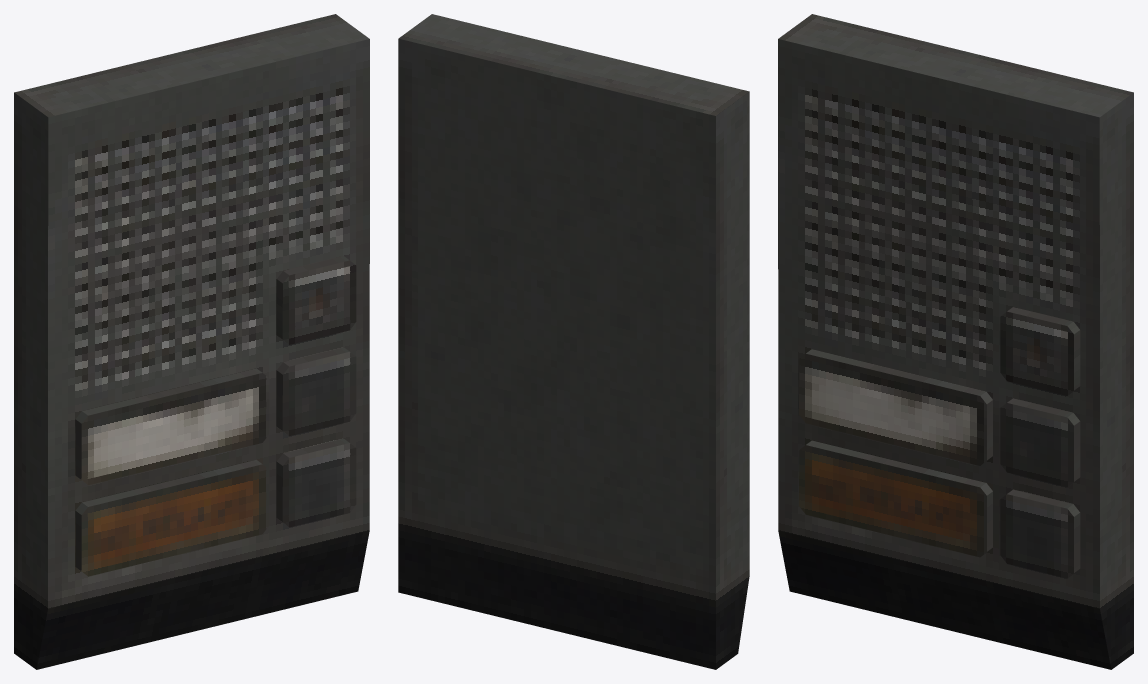
File: button_11.glb
3 views of the same model, side by side, from view 1: azimuth 30°, elevation 25°; view 2: azimuth 150°, elevation 25°; view 3: azimuth 330°, elevation 25° (orthographic).
Visible parts, largest first — view 1: button_11; view 2: button_11; view 3: button_11.
Boxes of the visible parts, x1,y1,x2,y2 form: button_11: (14,14,369,669); button_11: (398,14,749,669); button_11: (778,14,1133,669).
Bounding box in the file's own units: 0.12 × 0.2 × 0.026.
1 material, 1 textured.
